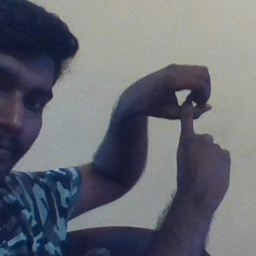Q: (112, 60, 235, 183)
